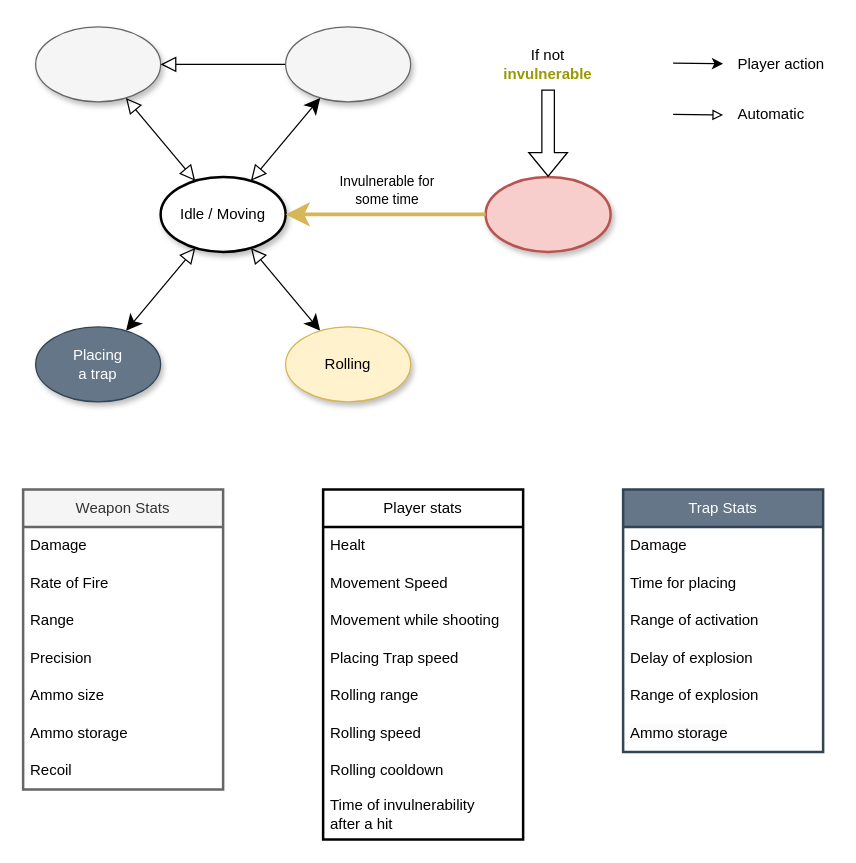
Some shapes in this 856 by 863 pixel diagram are drawn without their labels. The shapes that lost their labels are listed below. From the top down, each one's centre as x and y in pixels, then its label:
At (x=98, y=66): "Recharging".
At (x=348, y=66): "Shooting".
At (x=549, y=215): "Hit by an enemy".
